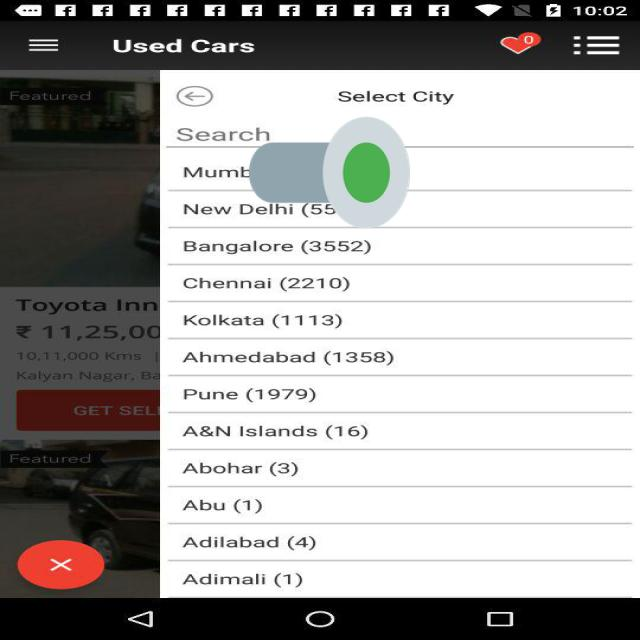social proof: (249, 69, 410, 276)
